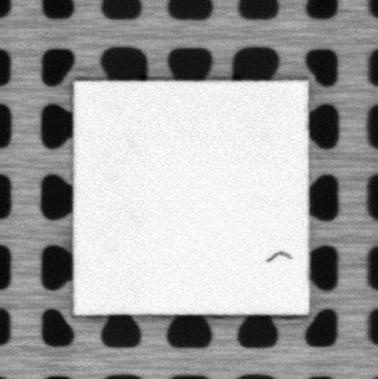DIE_INK: (264, 250, 293, 262)
